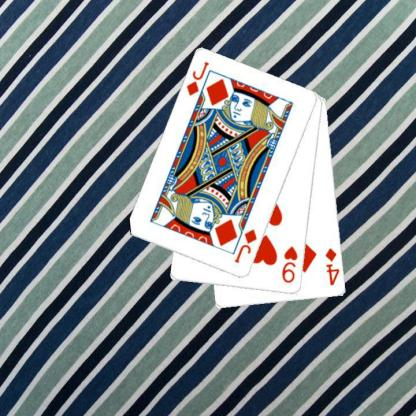4D: (323, 246, 341, 287)
9H: (280, 244, 299, 285)
JD: (184, 59, 210, 98), (232, 226, 258, 264)
